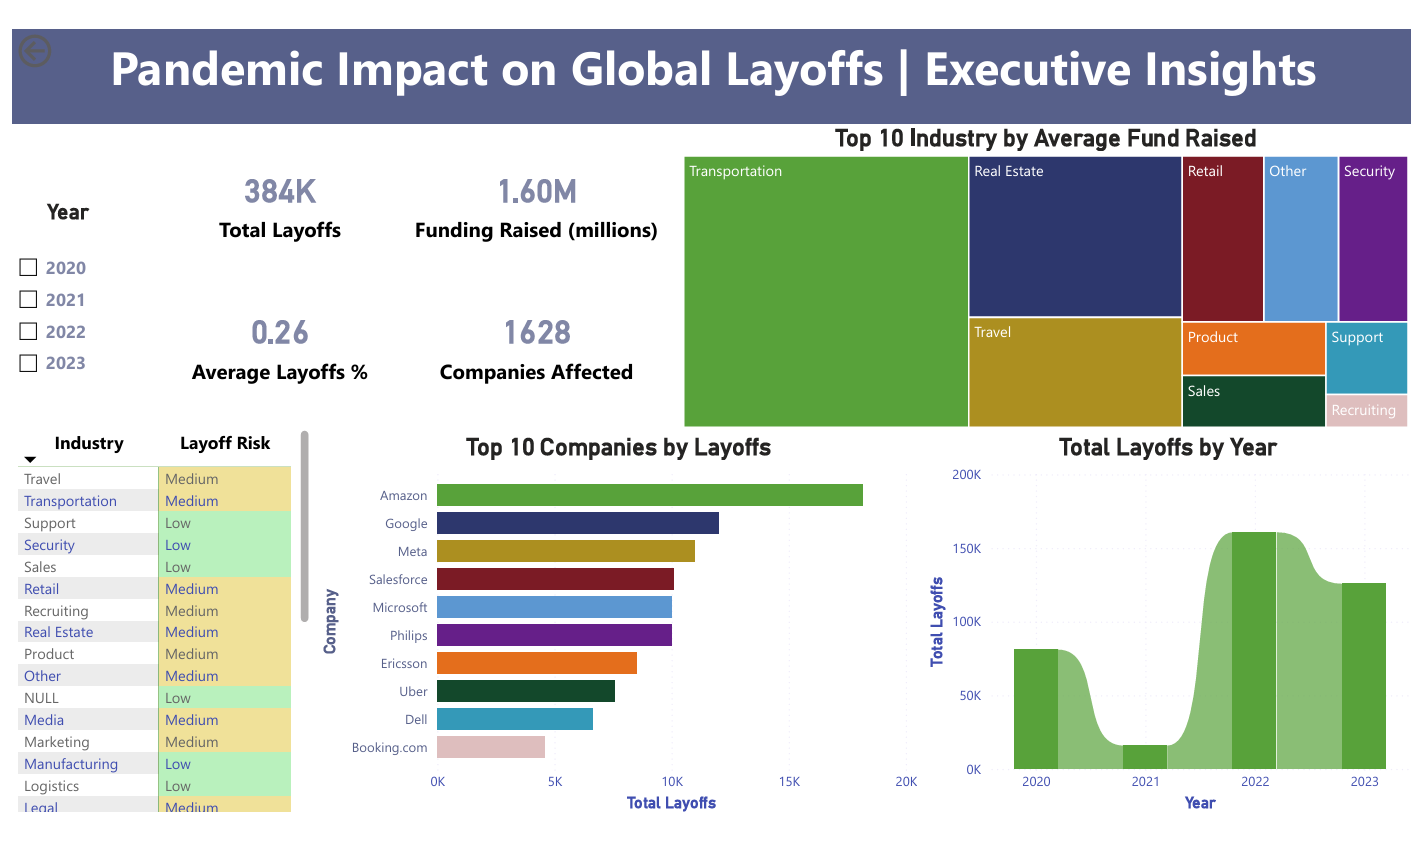

The dashboard page shown, as its layout file describes it:
{"tool":"powerbi","page":{"name":"Page 1","canvas":[1280,720],"ordinal":0},"visuals":[{"type":"textbox","box":[0,0,1280.3,86.4],"z":0},{"type":"card","fields":{"Values":["Cleaned File.total Layoffs"]},"box":[138.9,87,210.5,141.8],"z":1000},{"type":"card","fields":{"Values":["Cleaned File.Companies Affected"]},"box":[349.5,228.8,258.2,116.5],"z":2000},{"type":"card","fields":{"Values":["Cleaned File.Average Layoff %"]},"box":[138.9,228.8,210.5,116.5],"z":3000},{"type":"card","fields":{"Values":["Cleaned File.Average Funding"]},"box":[349.5,87,258.2,141.8],"z":4000},{"type":"barChart","title":"Top 10 Companies by Layoffs","fields":{"Category":["Cleaned File.company"],"Series":["Cleaned File.company"],"Y":["Cleaned File.total Layoffs"]},"box":[276.5,369.1,554.4,350.9],"z":5000},{"type":"pivotTable","fields":{"Rows":["Cleaned File.industry"],"Values":["Cleaned File.Layoff Risk"]},"box":[0,360.7,276.5,359.3],"z":6000},{"type":"ribbonChart","title":"Total Layoffs by Year","fields":{"Category":["Cleaned File.date.Variation.Date Hierarchy.Year"],"Y":["Cleaned File.total Layoffs"]},"box":[830.9,369.1,449.1,350.9],"z":7000},{"type":"actionButton","box":[0,0,100,40],"z":8000},{"type":"treemap","title":"Top 10 Industry by Average Fund Raised ","fields":{"Group":["Cleaned File.industry"],"Values":["Avg(Cleaned File.funds_raised_millions)"]},"box":[607.7,87,672.3,282.1],"z":9000},{"type":"listSlicer","fields":{"Values":["Cleaned File.date.Variation.Date Hierarchy.Year"]},"box":[0,155.8,99.6,189.5],"z":10000}]}

Visuals, with their boxes on the page's 1280x720 design canvas (x1, y1, x2, y2). These are canvas units, not pixel positions in the 1411x849 screenshot, which may show the page scaled, cropped or inside an application window:
textbox: [x1=0, y1=0, x2=1280, y2=86]
card - Cleaned File.total Layoffs: [x1=139, y1=87, x2=349, y2=229]
card - Cleaned File.Companies Affected: [x1=350, y1=229, x2=608, y2=345]
card - Cleaned File.Average Layoff %: [x1=139, y1=229, x2=349, y2=345]
card - Cleaned File.Average Funding: [x1=350, y1=87, x2=608, y2=229]
"Top 10 Companies by Layoffs" barChart: [x1=276, y1=369, x2=831, y2=720]
pivotTable - Cleaned File.industry x Cleaned File.Layoff Risk: [x1=0, y1=361, x2=276, y2=720]
"Total Layoffs by Year" ribbonChart: [x1=831, y1=369, x2=1280, y2=720]
actionButton: [x1=0, y1=0, x2=100, y2=40]
"Top 10 Industry by Average Fund Raised " treemap: [x1=608, y1=87, x2=1280, y2=369]
listSlicer - Cleaned File.date.Variation.Date Hierarchy.Year: [x1=0, y1=156, x2=100, y2=345]
